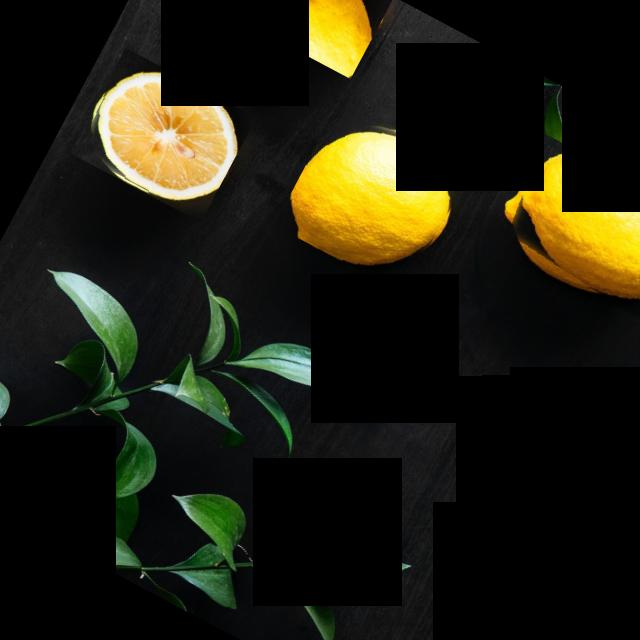lemon: (273, 97, 474, 296), (70, 48, 256, 222), (485, 132, 640, 322), (207, 0, 393, 79)
